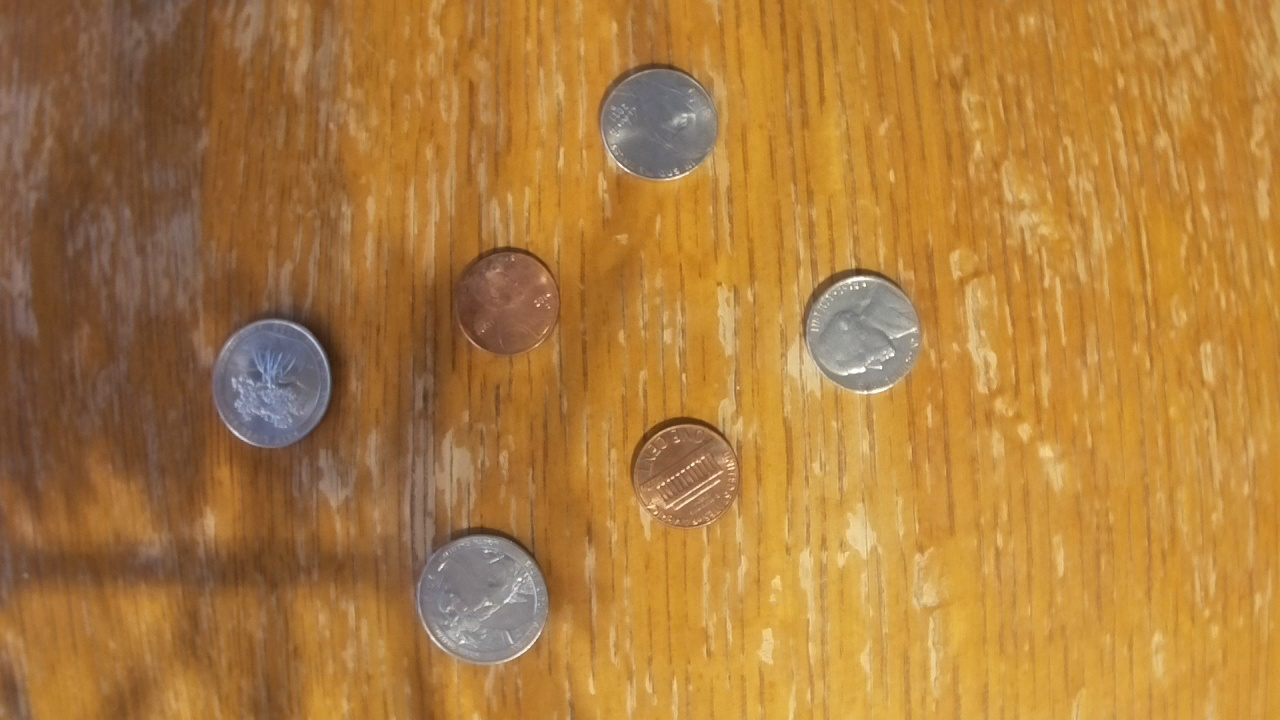nickel: (798, 270, 926, 400), (595, 65, 723, 185)
penny: (449, 243, 565, 359), (629, 416, 743, 534)
quarter: (412, 528, 552, 670), (206, 313, 336, 455)
